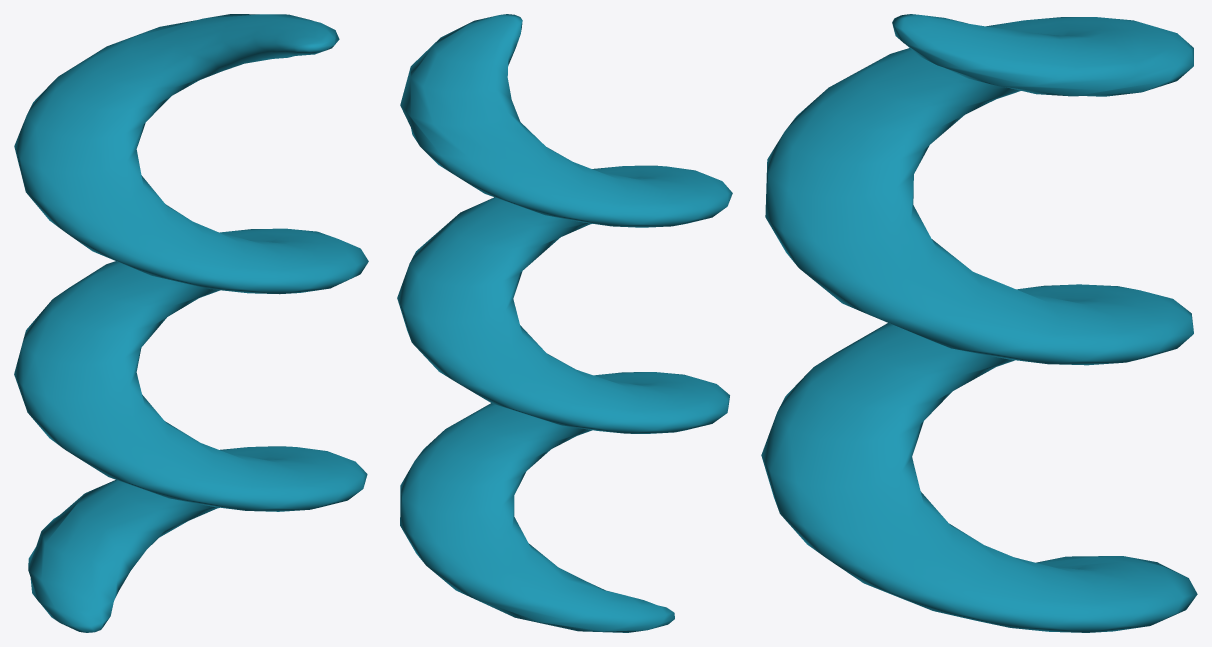
The model's file is virus3.DAE.
3 views of the same model, side by side, from view 1: azimuth 30°, elevation 25°; view 2: azimuth 150°, elevation 25°; view 3: azimuth 270°, elevation 25° (orthographic). The views are drawn at different scales.
Parts seen in each view (by area): view 1: Capsule001; view 2: Capsule001; view 3: Capsule001.
Boxes of the visible parts, box(x1,y1,x2,y2) form: Capsule001: box(14, 14, 368, 632); Capsule001: box(397, 14, 732, 632); Capsule001: box(761, 14, 1197, 632).
Size of the model in its own units: 36.64 by 36.79 by 64.44.
